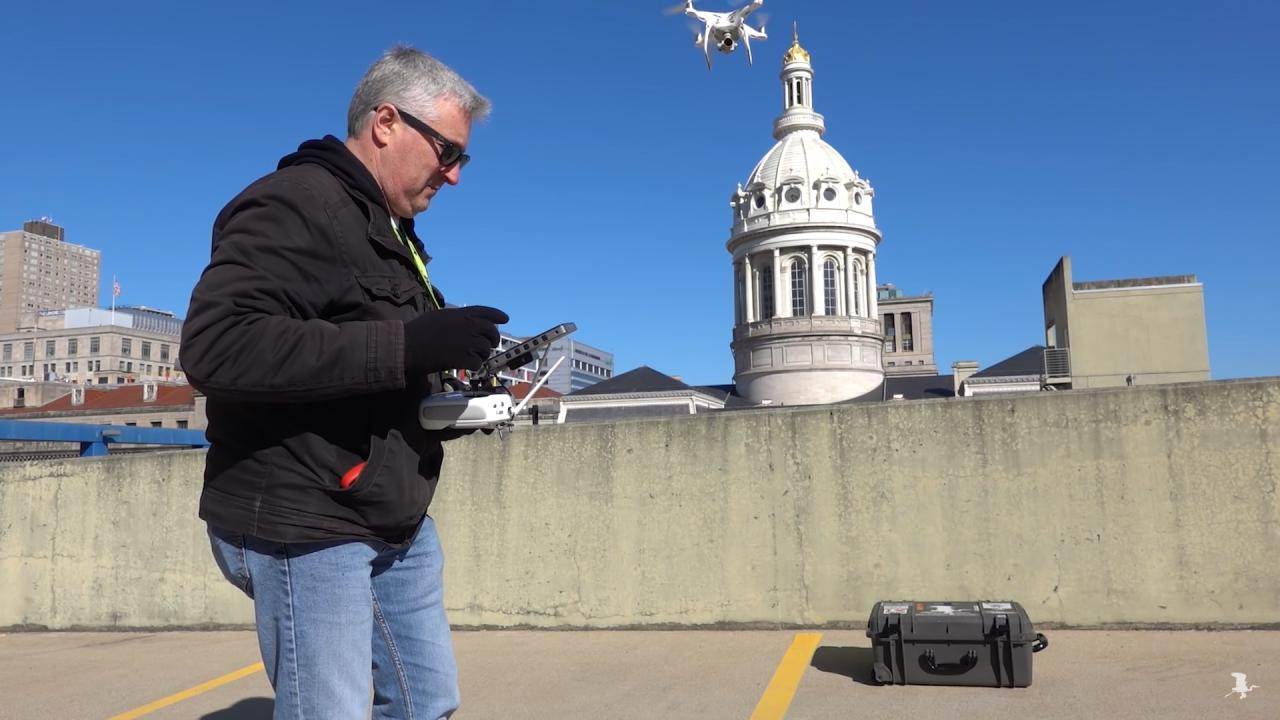Drone: (656, 0, 788, 88)
